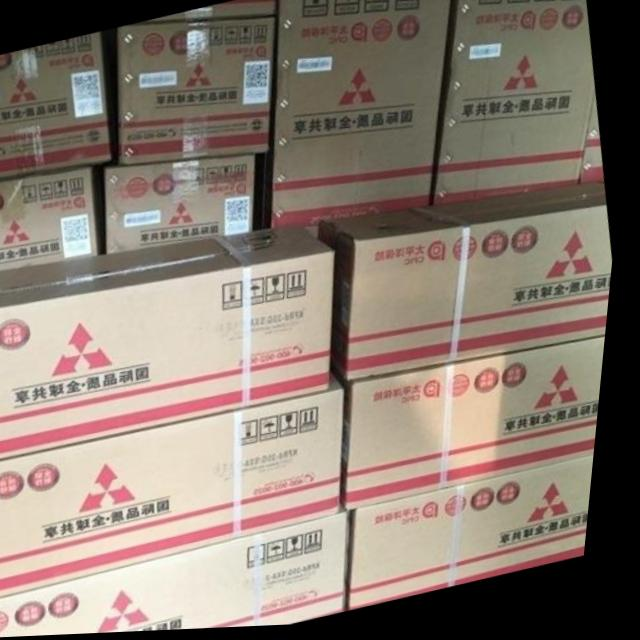box: (0, 228, 339, 461), (0, 376, 352, 599), (322, 187, 618, 384), (349, 342, 612, 514), (3, 515, 360, 638), (268, 0, 450, 231), (360, 461, 603, 614), (438, 0, 598, 210), (117, 19, 276, 166), (0, 32, 114, 179), (108, 157, 258, 257), (0, 168, 102, 273), (135, 0, 276, 25), (585, 102, 608, 188)
